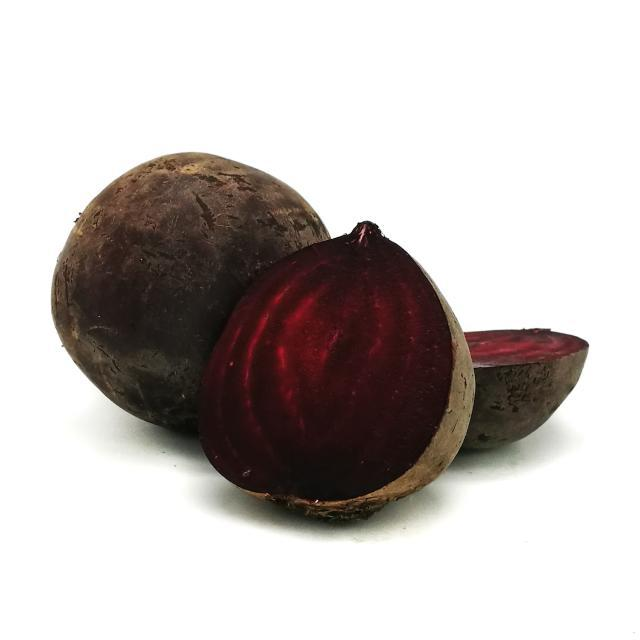beet: (52, 147, 590, 524)
